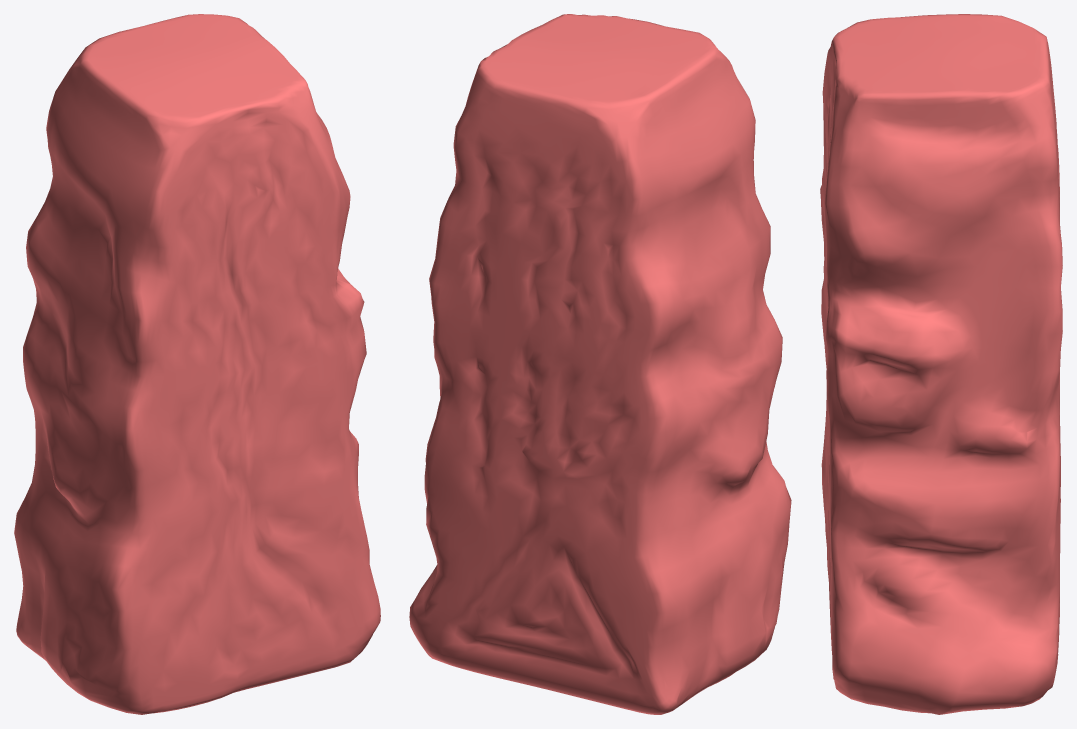
The model's file is stele01.fbx.
3 views of the same model, side by side, from view 1: azimuth 30°, elevation 25°; view 2: azimuth 150°, elevation 25°; view 3: azimuth 270°, elevation 25° (orthographic).
Visible parts, largest first — view 1: PM3D_Cube3D_1; view 2: PM3D_Cube3D_1; view 3: PM3D_Cube3D_1.
Boxes of the visible parts, x1,y1,x2,y2 form: PM3D_Cube3D_1: [14, 14, 380, 714]; PM3D_Cube3D_1: [409, 14, 791, 714]; PM3D_Cube3D_1: [820, 14, 1062, 714].
Size of the model in its own units: 3.07 by 5.65 by 2.1.
